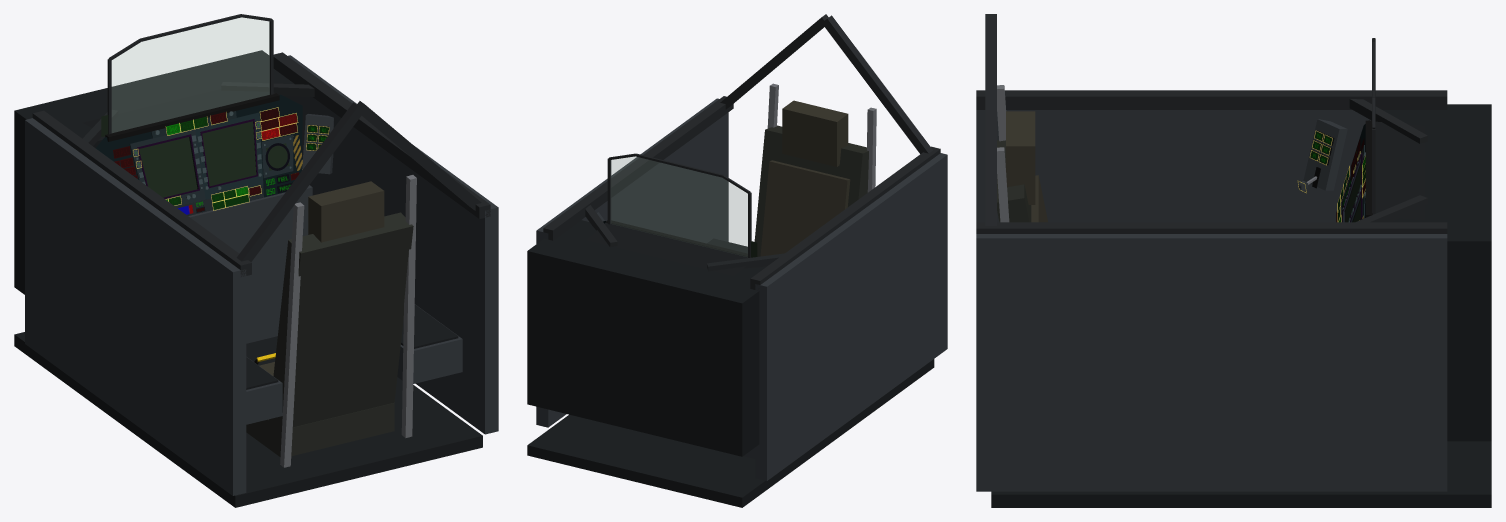
File: cockpit_classic.glb
The picture shows the model from 3 angles, left to right: view 1: azimuth 30°, elevation 25°; view 2: azimuth 150°, elevation 25°; view 3: azimuth 270°, elevation 25°; orthographic projection. The views are drawn at different scales.
Parts seen in each view (by area): view 1: panel_grey_102, seat_122, panel_grey_106, dark_110, hud_glass_96, dark_100, panel_grey_101, seat_120, cushion_124, frame_103, frame_107, metal_125 (+16 smaller); view 2: dark_100, panel_grey_102, dark_110, panel_grey_106, hud_glass_96, cushion_123, cushion_124, frame_107, seat_122, dark_98, frame_103, frame_117 (+5 smaller); view 3: panel_grey_106, panel_grey_102, dark_100, dark_110, frame_103, frame_107, dark_98, frame_119, cushion_124, panel_grey_496, frame_116, seat_122 (+3 smaller).
Part boxes in pixels (box(x1,y1,x2,y2)): panel_grey_102: box(25, 118, 246, 495); seat_122: box(268, 212, 413, 429); panel_grey_106: box(288, 55, 498, 434); dark_110: box(14, 332, 482, 507); hud_glass_96: box(112, 18, 269, 132); dark_100: box(14, 50, 309, 294); panel_grey_101: box(188, 185, 312, 343); seat_120: box(246, 402, 394, 456); cushion_124: box(308, 181, 384, 242); frame_103: box(32, 110, 251, 276); frame_107: box(273, 52, 490, 218); metal_125: box(280, 202, 304, 467); dark_100: box(527, 220, 766, 456); panel_grey_102: box(755, 153, 947, 480); dark_110: box(527, 359, 934, 507); panel_grey_106: box(536, 98, 728, 427); hud_glass_96: box(611, 157, 747, 256); cushion_123: box(760, 160, 850, 256); cushion_124: box(782, 100, 848, 166); frame_107: box(543, 96, 733, 240); seat_122: box(754, 125, 868, 256); dark_98: box(586, 222, 747, 276); frame_103: box(750, 146, 940, 289); frame_117: box(822, 15, 932, 153); panel_grey_106: box(976, 234, 1447, 491); panel_grey_102: box(976, 110, 1370, 222); dark_100: box(1383, 104, 1491, 441); dark_110: box(991, 441, 1491, 507); frame_103: box(976, 90, 1447, 109); frame_107: box(976, 222, 1447, 233); dark_98: box(1373, 121, 1424, 220); frame_119: box(985, 17, 996, 225); cushion_124: box(1006, 111, 1035, 204); panel_grey_496: box(1303, 119, 1347, 190); frame_116: box(1349, 99, 1427, 143); seat_122: box(997, 140, 1031, 222).
Bounding box in the file's own units: 1.18 × 1.59 × 1.75.
30 materials, 14 textured.
